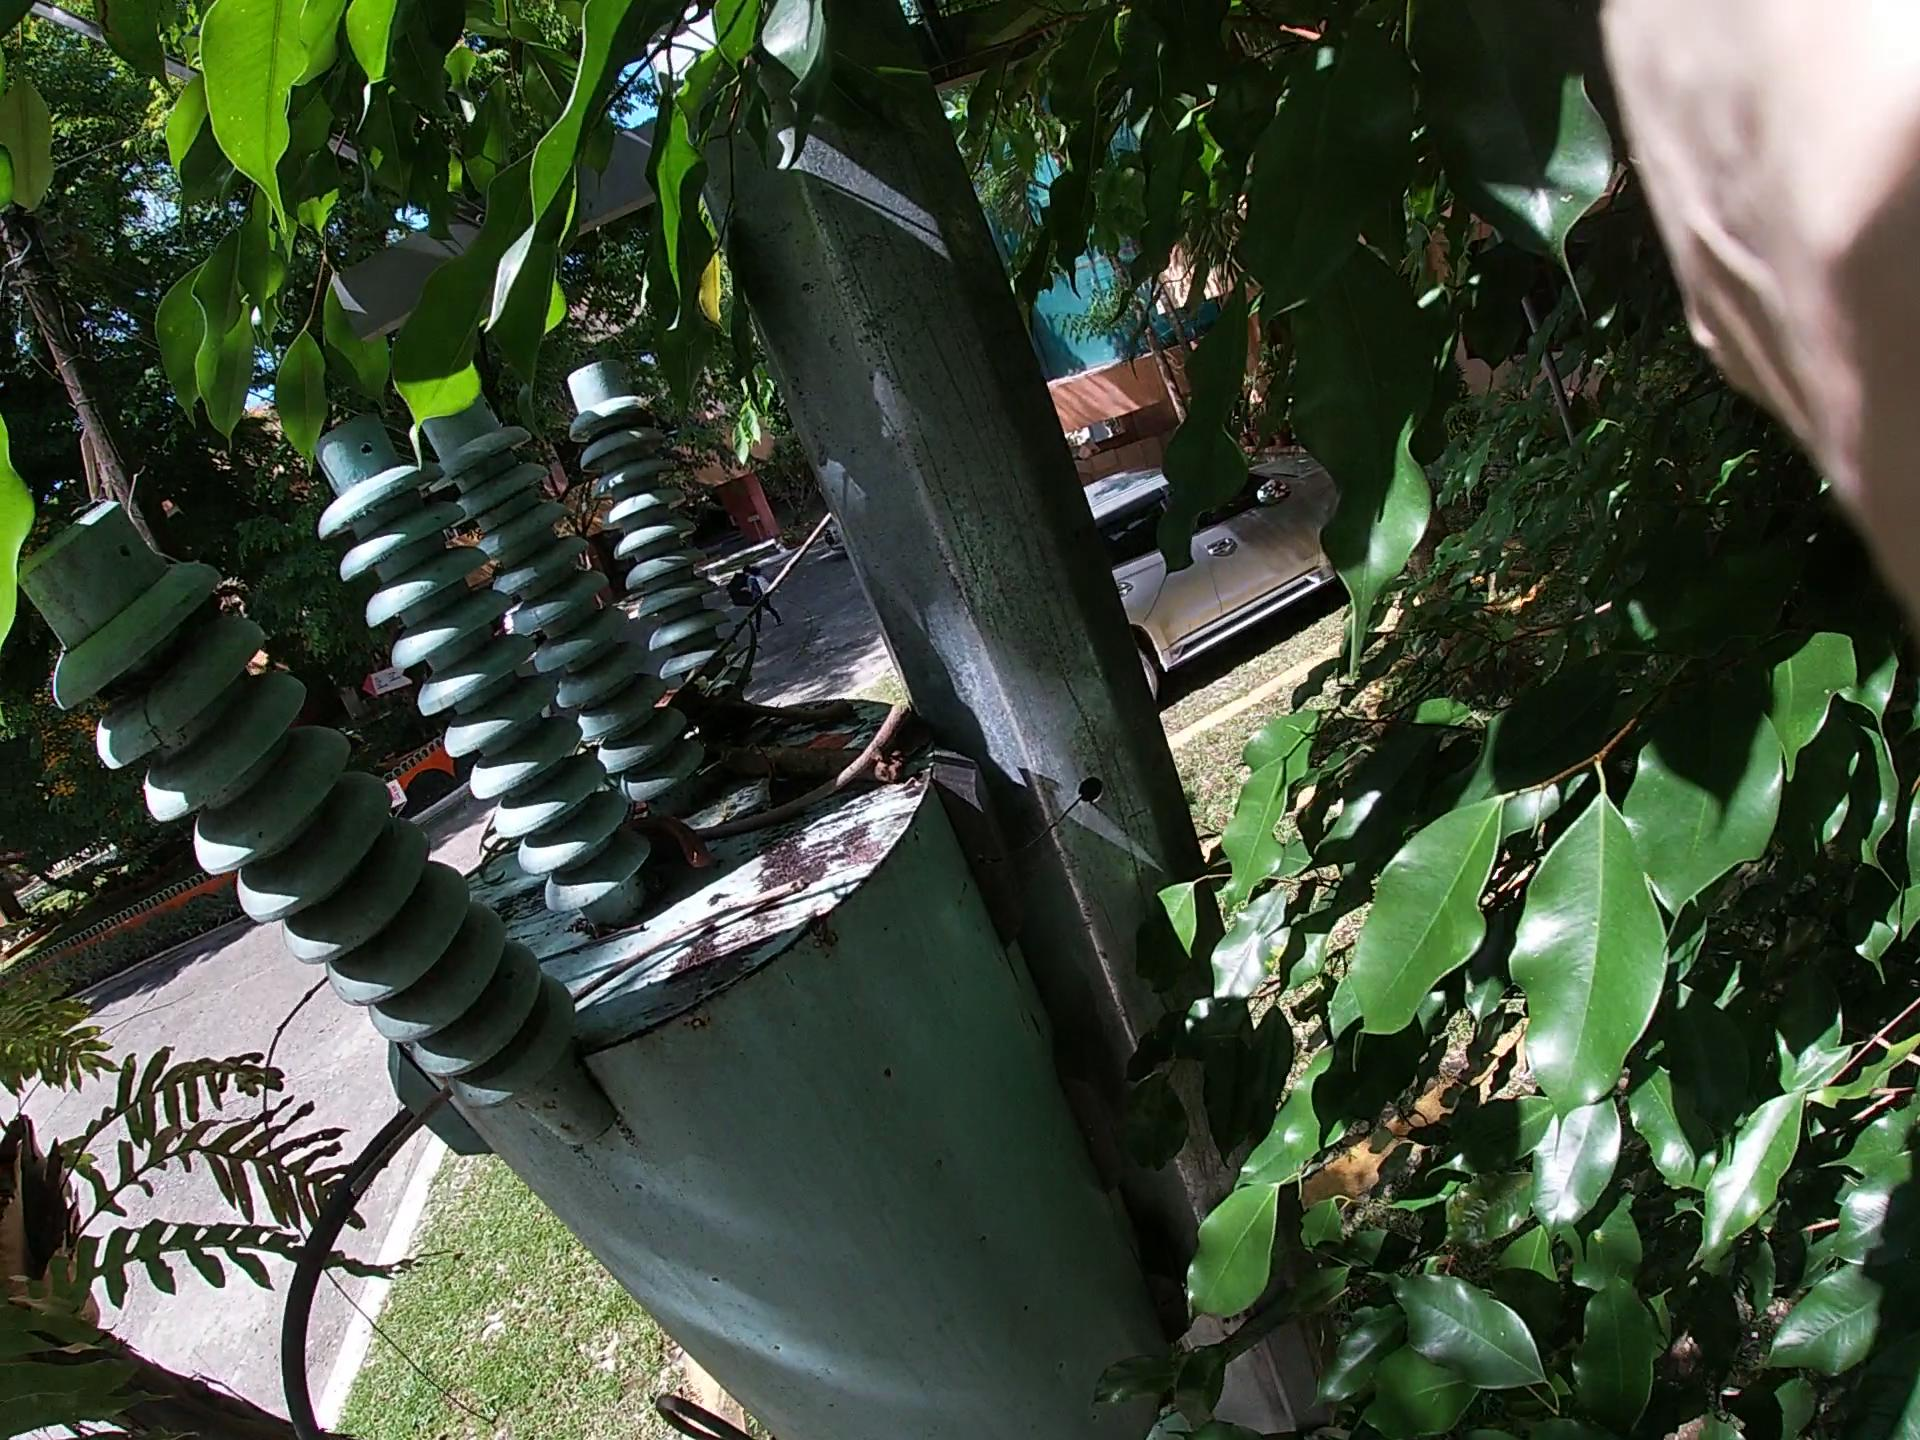branch with leaves: (639, 442, 872, 706)
leaf: (777, 709, 893, 764)
mahogany fruit: (621, 777, 751, 953)
tree branch: (92, 641, 513, 1221), (379, 914, 816, 1175), (708, 697, 1011, 855)
